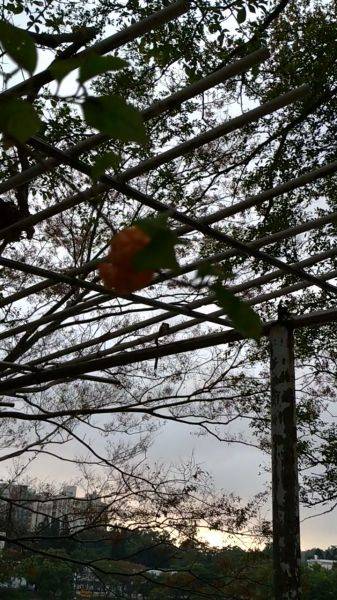eggs: (92, 224, 162, 303)
